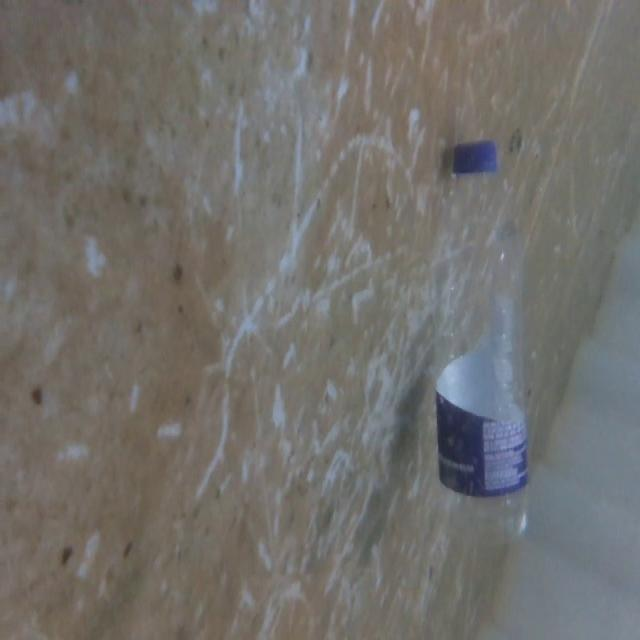plastic bottle: (429, 122, 558, 588)
